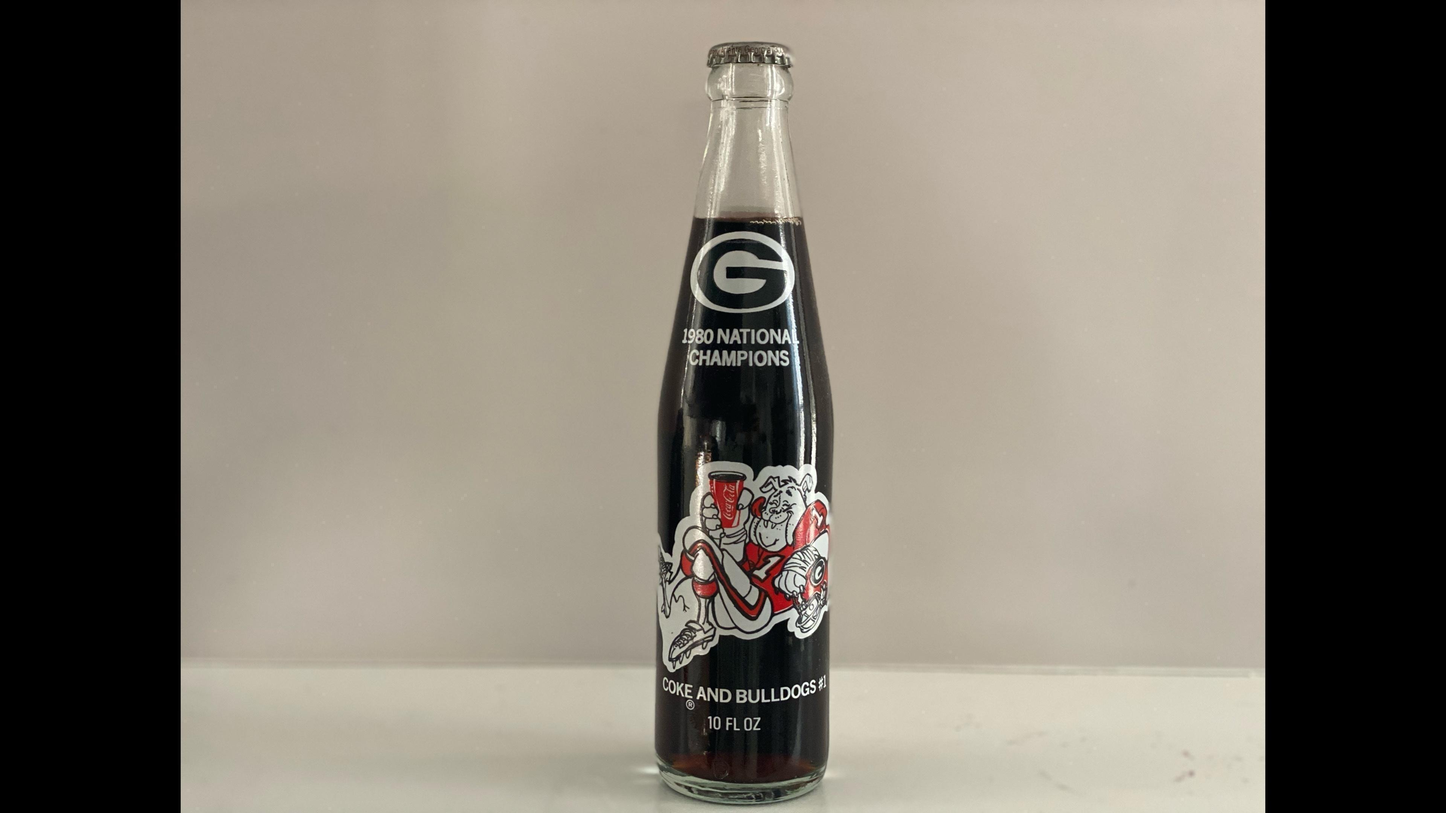bottle-glass: (647, 33, 841, 811)
